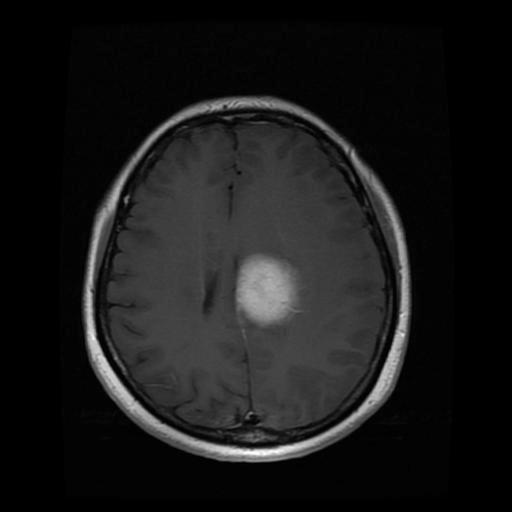Tumour-Pituitary: (225, 253, 309, 354)
